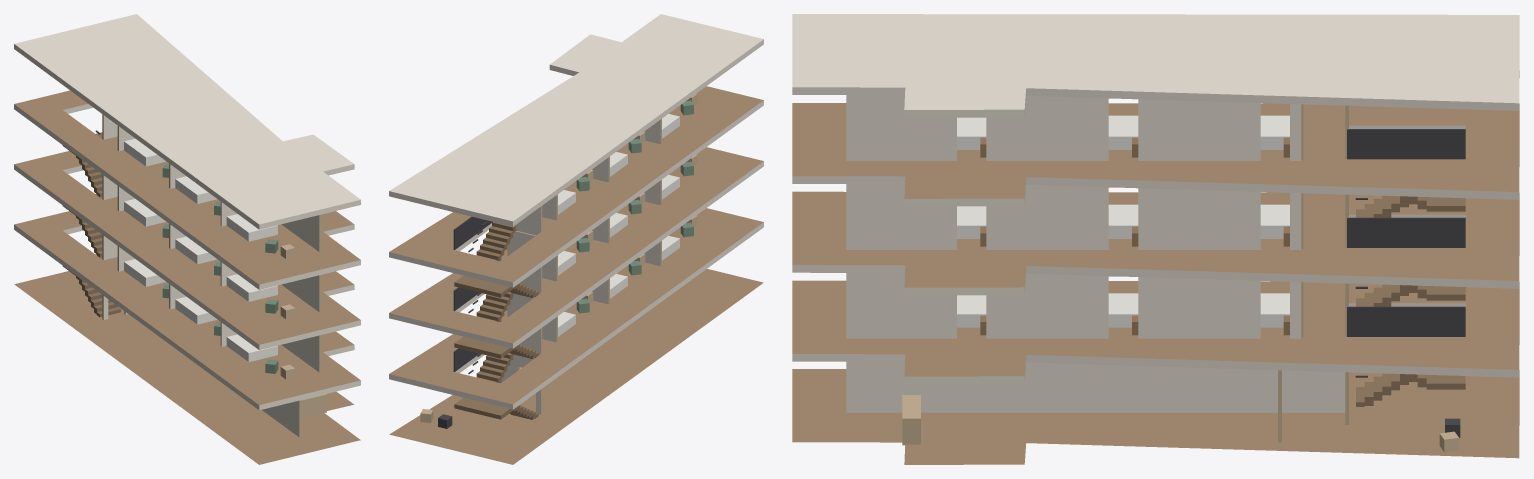
File: interior.glb
3 renders of one model, left to right at view 1: azimuth 30°, elevation 25°; view 2: azimuth 150°, elevation 25°; view 3: azimuth 270°, elevation 25°, orthographic. The views are drawn at different scales.
Visible parts, largest first — view 1: slabs, partitions, coarse-s3, coarse-s2, coarse-s1, stair, coarse-s0; view 2: slabs, stair, partitions, coarse-s2, coarse-s3, coarse-s1; view 3: slabs, partitions, stair, coarse-s1, coarse-s2, coarse-s3, coarse-s0.
Part boxes in pixels (box(x1,y1,x2,y2)): slabs: box(14, 14, 360, 464); partitions: box(102, 114, 321, 437); coarse-s3: box(124, 138, 294, 258); coarse-s2: box(124, 198, 294, 319); coarse-s1: box(124, 259, 294, 379); stair: box(62, 130, 120, 317); coarse-s0: box(301, 394, 326, 417); slabs: box(389, 14, 763, 464); stair: box(453, 216, 538, 419); partitions: box(500, 119, 661, 414); coarse-s2: box(558, 154, 697, 275); coarse-s3: box(558, 93, 697, 214); coarse-s1: box(558, 215, 697, 336); slabs: box(792, 14, 1519, 464); partitions: box(846, 95, 1348, 442); stair: box(1347, 129, 1465, 406); coarse-s1: box(957, 293, 1289, 335); coarse-s2: box(957, 204, 1289, 246); coarse-s3: box(957, 115, 1289, 157); coarse-s0: box(902, 395, 1460, 452).
Bounding box in the file's own units: 6.95 × 12 × 22.25.
